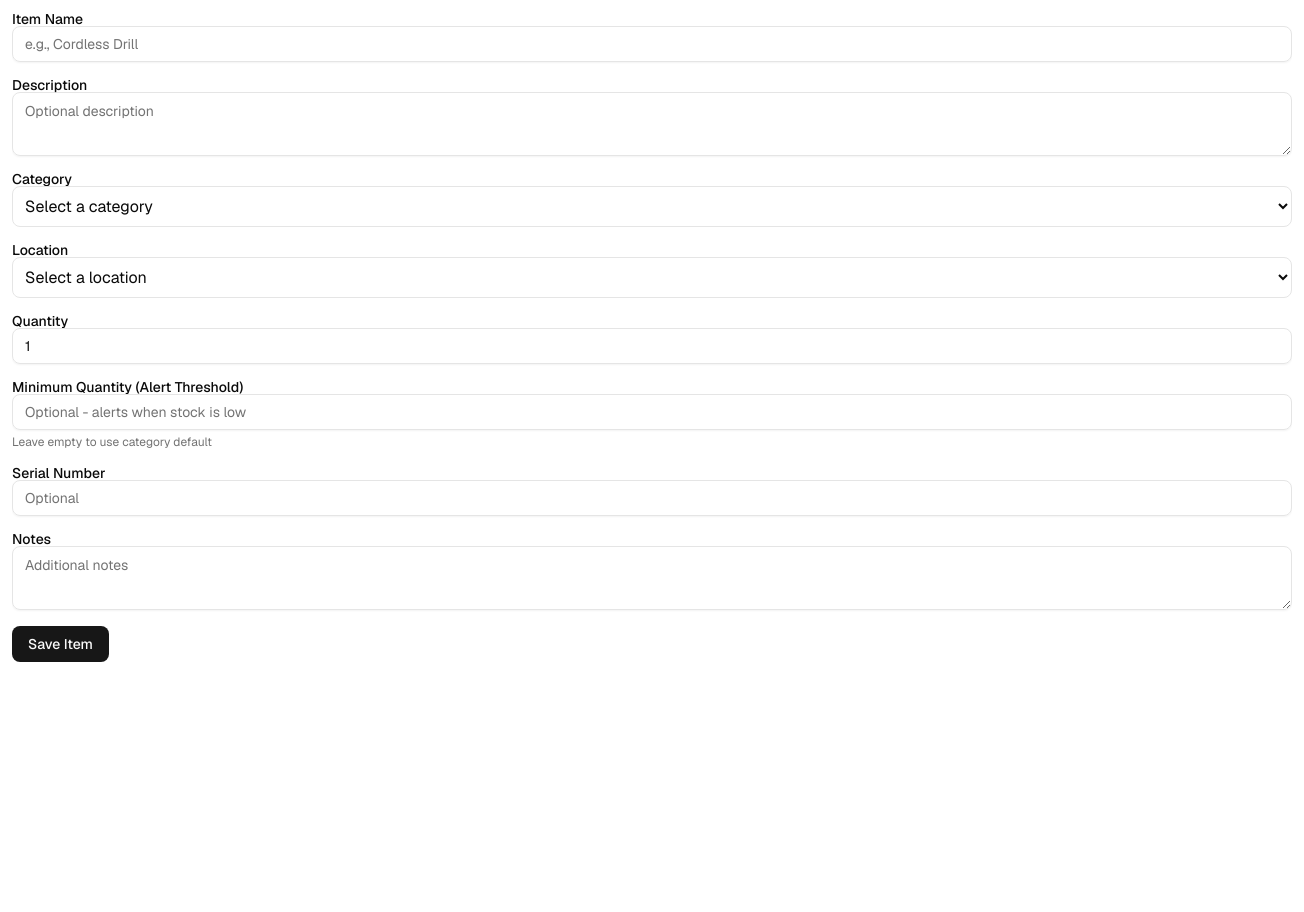
Scenario: ItemForm - Location Dropdown › Selection Tests › should verify form validates when no location selected
Type "Test Item" into the field labelled "Item Name" at (652, 44), box top-left (12, 26), bottom-right (1292, 62)
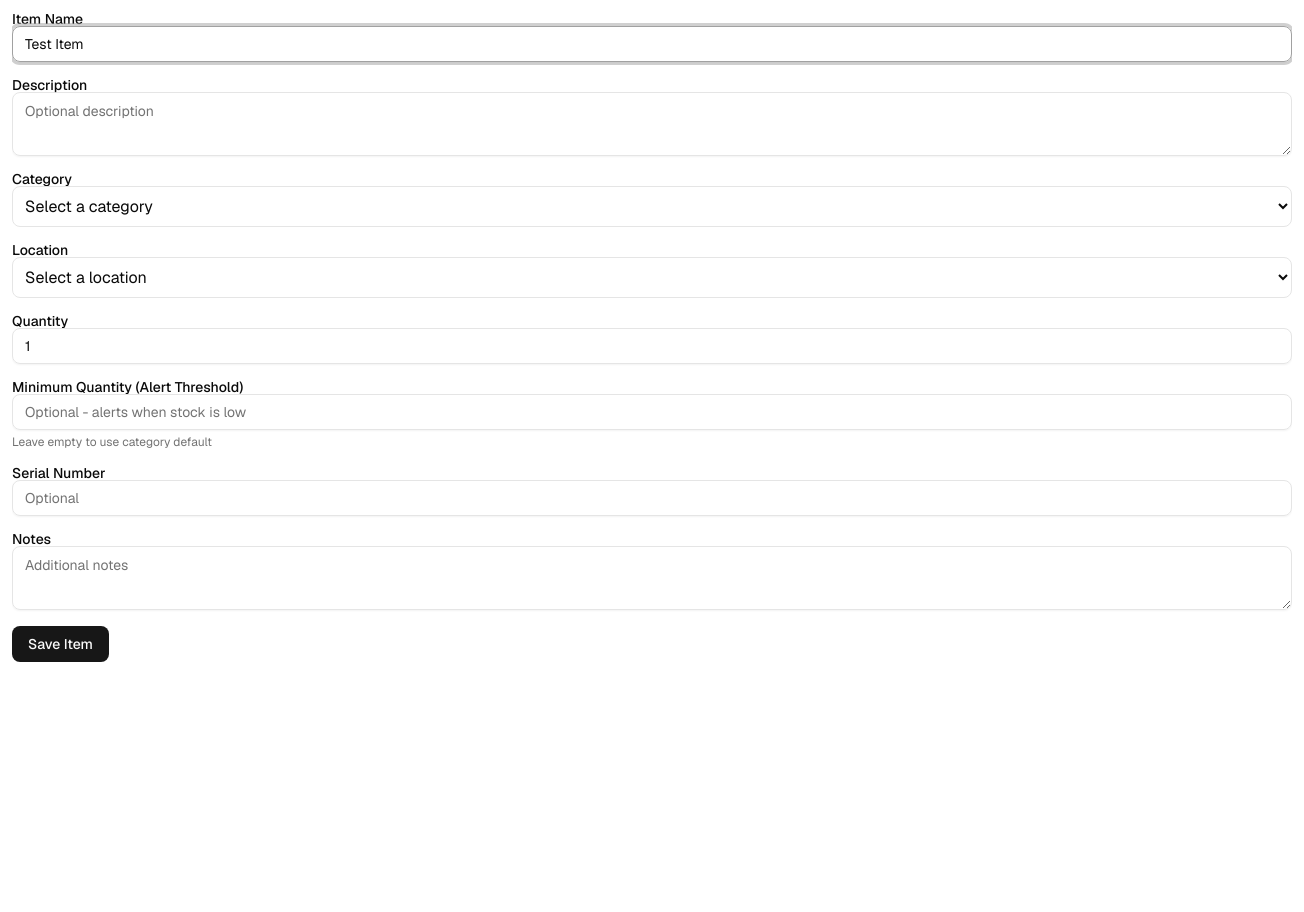
Select "Tools" in the 1st dropdown at (652, 206), box top-left (12, 186), bottom-right (1292, 227)
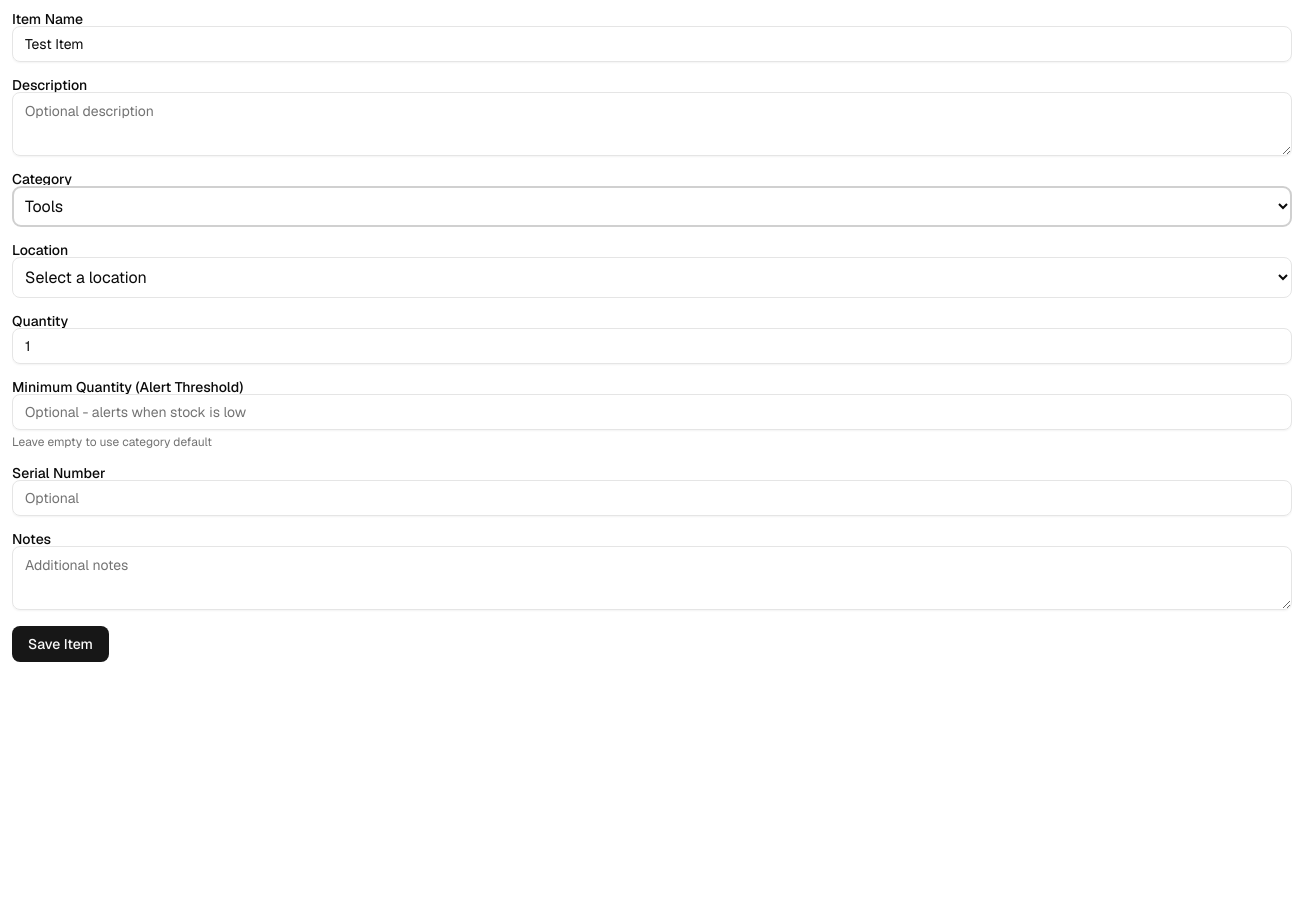
Click the button "Save Item" at (60, 644), box top-left (12, 626), bottom-right (109, 662)
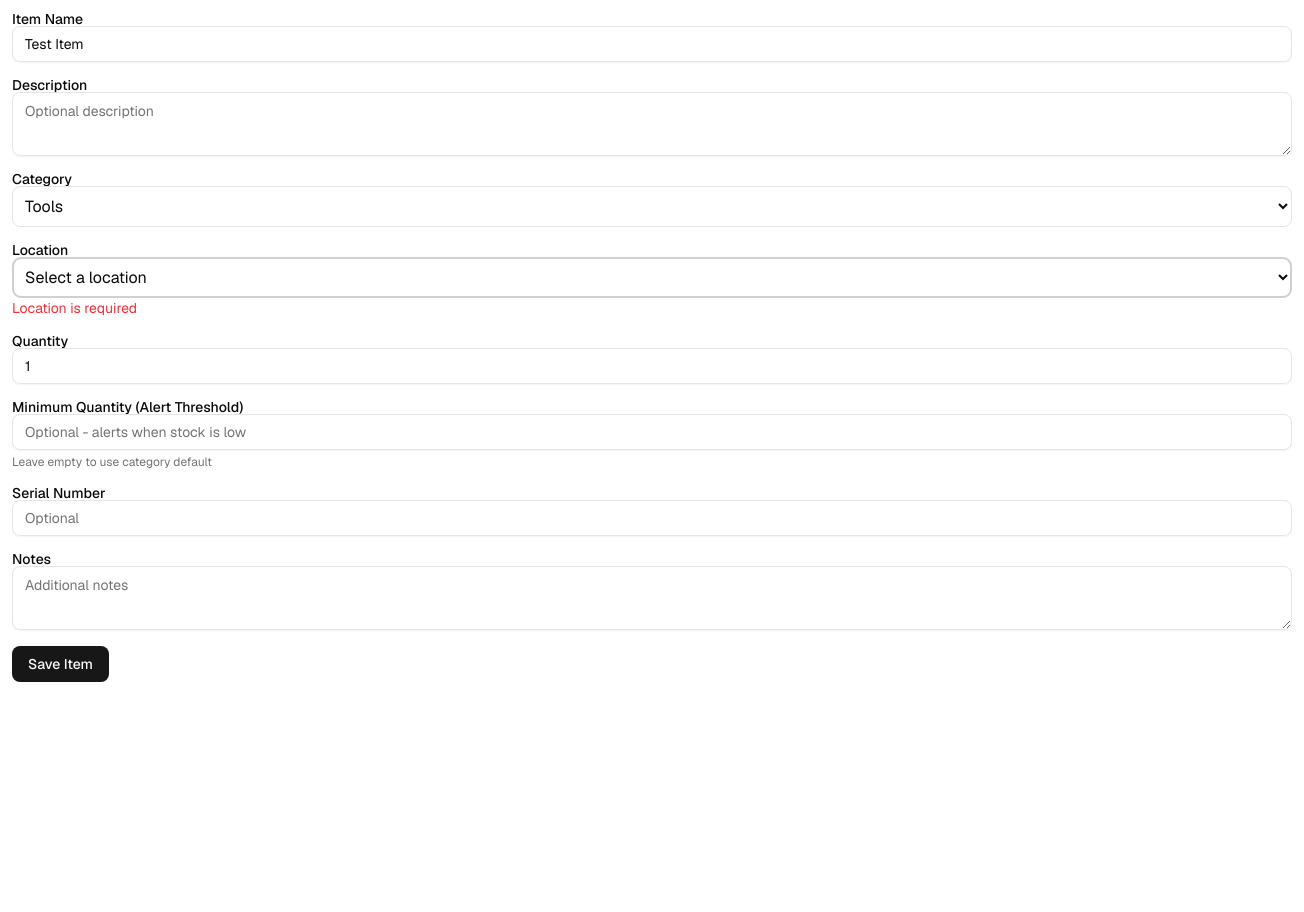
Check: the text "Location is required" is shown, box top-left (12, 299), bottom-right (137, 317)
